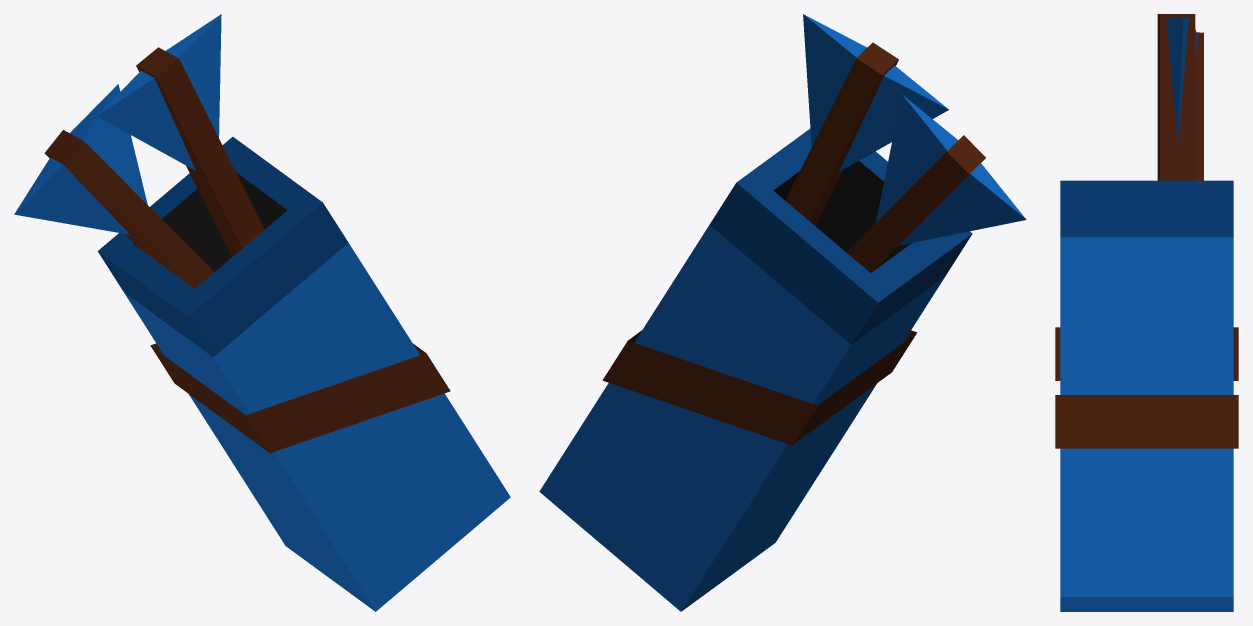
File: Quiver 01.FBX
The picture shows the model from 3 angles, left to right: view 1: azimuth 30°, elevation 25°; view 2: azimuth 150°, elevation 25°; view 3: azimuth 270°, elevation 25°; orthographic projection. The views are drawn at different scales.
Visible parts, largest first — view 1: Quiver 01; view 2: Quiver 01; view 3: Quiver 01.
Boxes of the visible parts, left/top/right/bottom form: Quiver 01: left=14, top=14, right=510, bottom=611; Quiver 01: left=539, top=14, right=1026, bottom=611; Quiver 01: left=1055, top=14, right=1238, bottom=611.
Size of the model in its own units: 51.86 by 65.18 by 19.66.
1 material, 1 textured.
